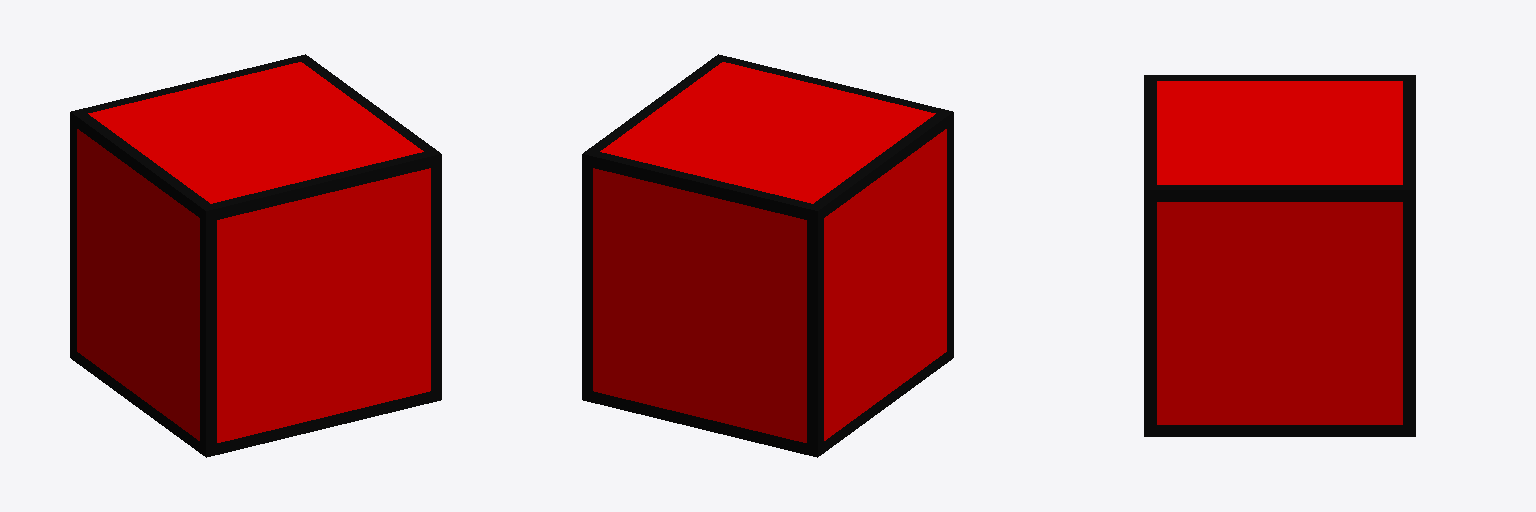
3 renders of one model, left to right at view 1: azimuth 30°, elevation 25°; view 2: azimuth 150°, elevation 25°; view 3: azimuth 270°, elevation 25°, orthographic.
Parts seen in each view (by area): view 1: object 1; view 2: object 1; view 3: object 1.
Boxes of the visible parts, <box> form: object 1: <box>70,54,441,457</box>; object 1: <box>582,54,953,457</box>; object 1: <box>1144,75,1415,436</box>.
Size of the model in its own units: 6.4 by 6.4 by 6.4.
Materials: 1 (1 with a texture image).